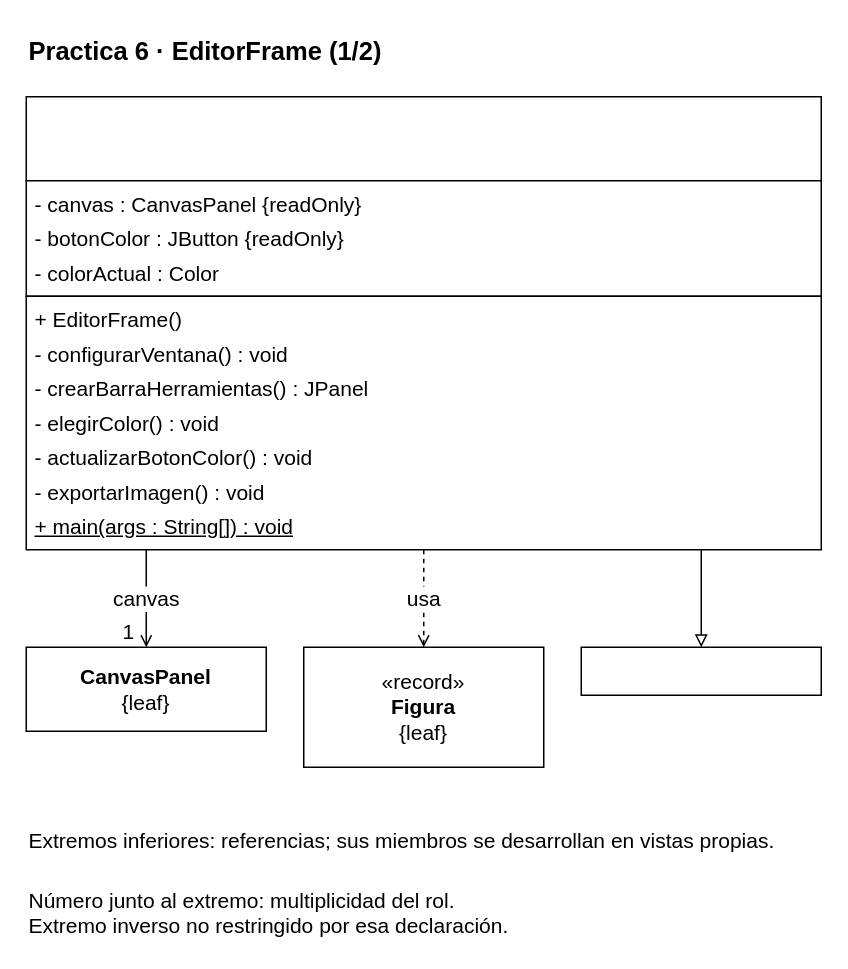
Some shapes in this 848 by 969 pixel diagram are drawn without their labels. Each missing label, with the centre of its shape:
"EditorFrame {leaf}" goes at (423,138).
"JFrame (JDK)" goes at (700,670).
